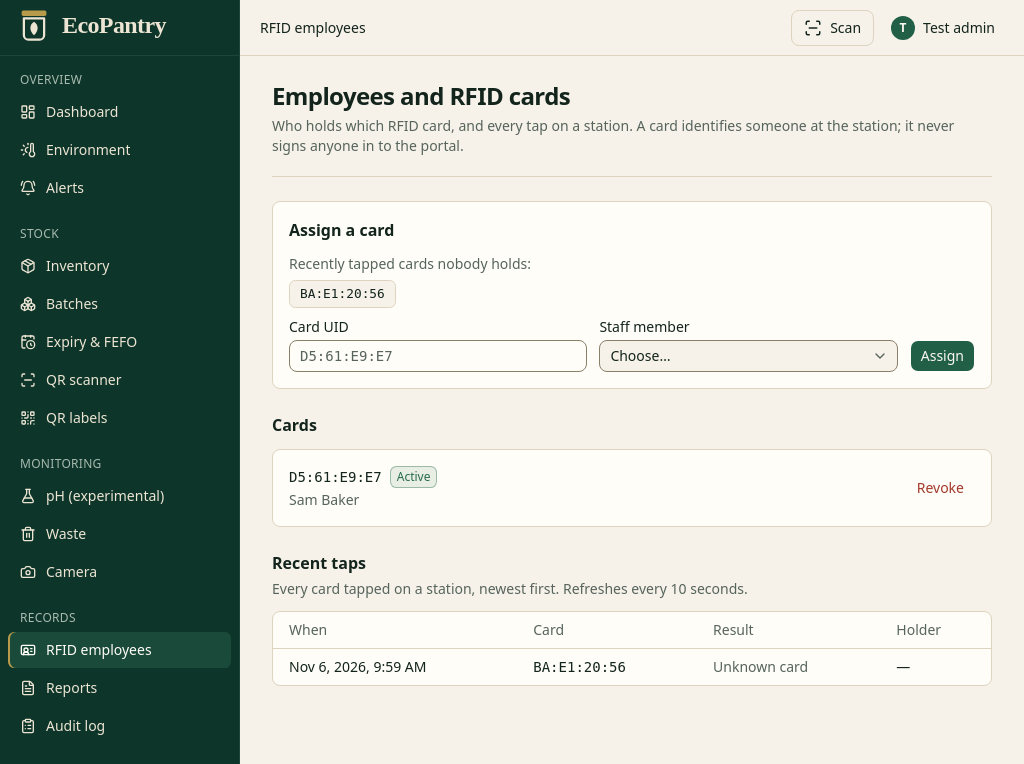
employees page › lets an administrator assign a recently tapped card
Click the button "BA:E1:20:56" at (342, 294), box [289,280,396,308]
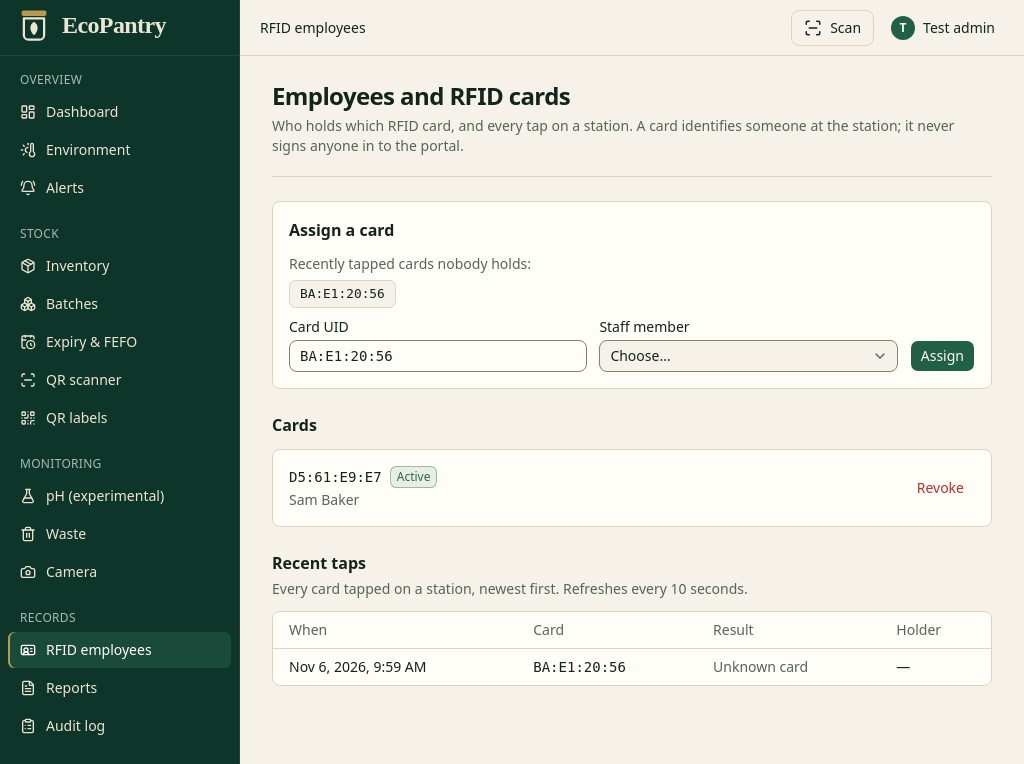
Expected: the field labelled "Card UID" holds "BA:E1:20:56", [289,340,587,372]
Select "Sam Baker" in the dropdown labelled "Staff member" at (749, 356), box [599,340,898,372]
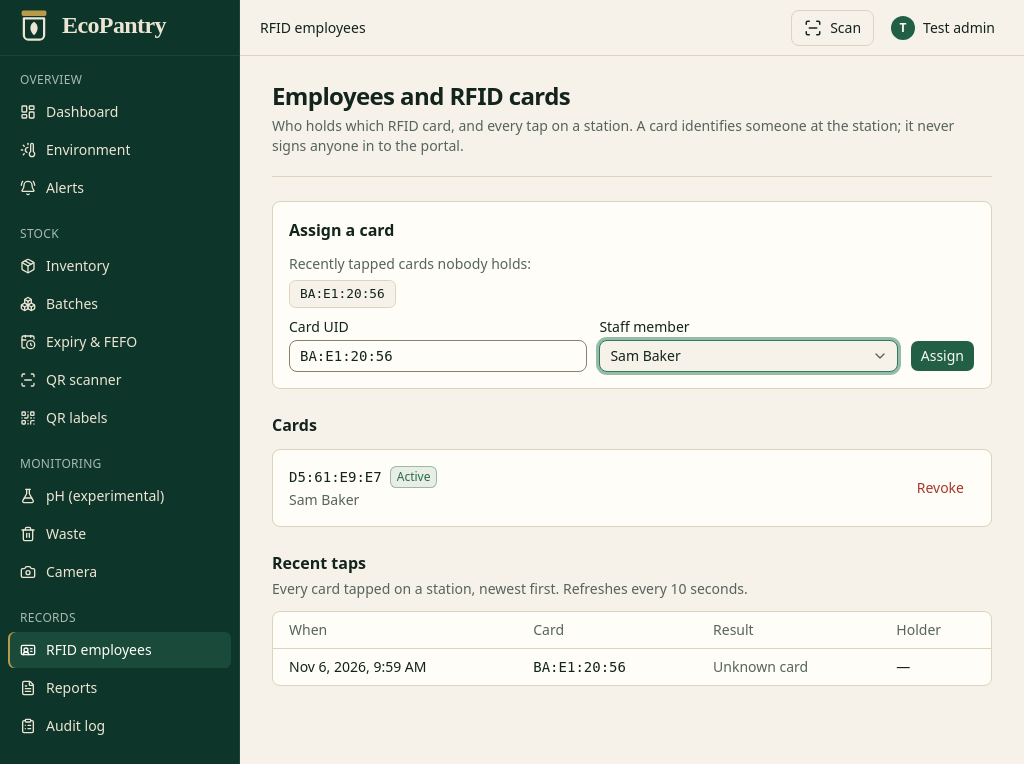
Click the button "Assign" at (942, 356), box [910,340,975,372]
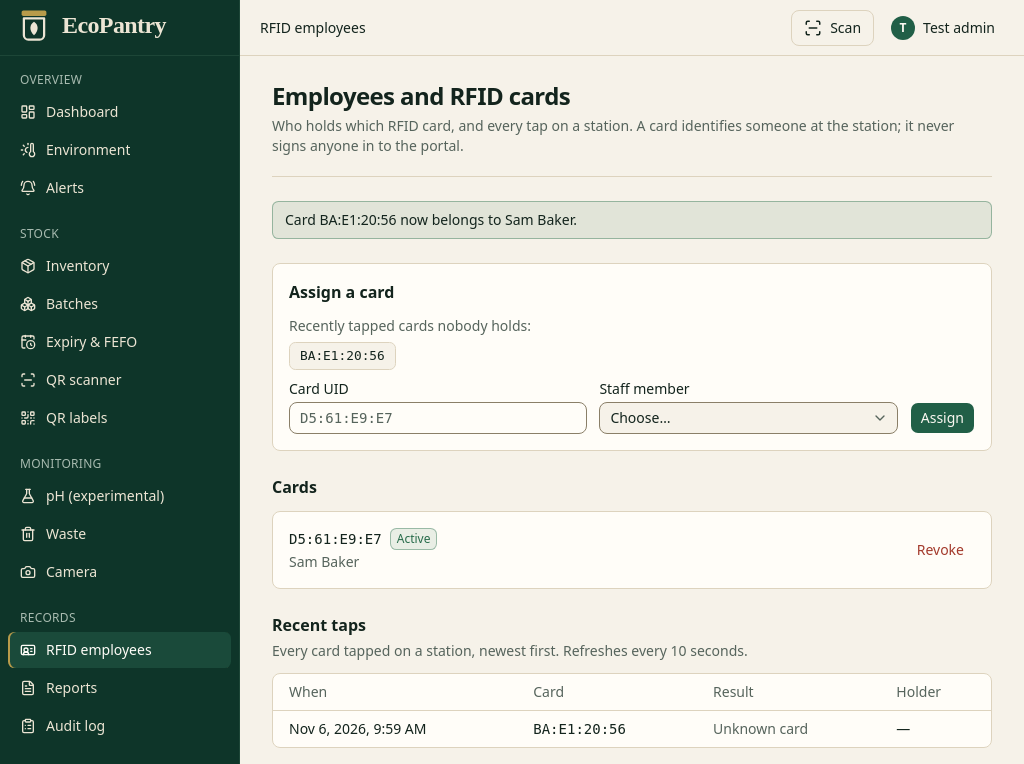
Expected: the text "Card BA:E1:20:56 now belongs to Sam Baker." is shown, [272,201,992,239]
